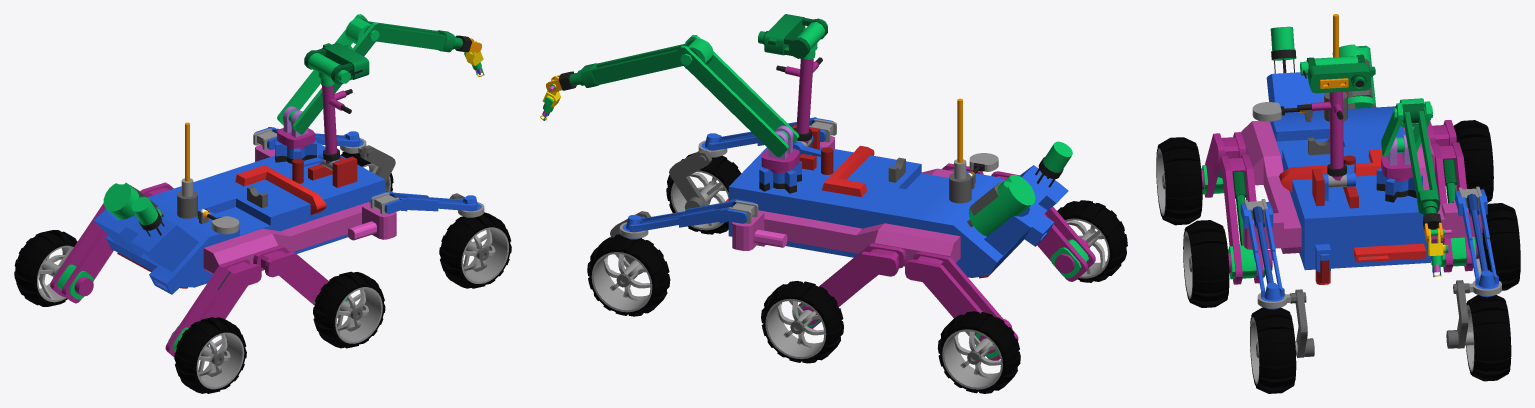
File: curiosity_jaeha.glb
The picture shows the model from 3 angles, left to right: view 1: azimuth 30°, elevation 25°; view 2: azimuth 150°, elevation 25°; view 3: azimuth 270°, elevation 25°; orthographic projection. The views are drawn at different scales.
Parts seen in each view (by area): view 1: boxbasearm, supportplattaformfromArm, LeftMechanicalArmFrontWell.004, LeftMechanicalArmFrontWell.003, RightMechanicalArmFrontWell, LeftMechanicalArmFrontWell.002, RightControlArmBack, LeftControlArmBack, Arm, RightControlArmCenter, abz, RightMechanicalArmFrontArm (+11 smaller); view 2: boxbasearm, supportplattaformfromArm, LeftMechanicalArmFrontWell.002, LeftMechanicalArmFrontWell.001, LeftMechanicalArmFrontWell, Arm, LeftControlArmBack, LeftMechanicalArmFrontWell.004, LeftControlArmCenter, abz, boxbasearm.002, RightControlArmBack (+12 smaller); view 3: boxbasearm, supportplattaformfromArm, RightMechanicalArmFrontWell, LeftMechanicalArmFrontWell, LeftMechanicalArmFrontWell.004, LeftMechanicalArmFrontWell.003, RightControlArmCenter, LeftControlArmCenter, LeftMechanicalArmFrontWell.001, LeftMechanicalArmFrontWell.002, RightMechanicalArmFrontArm, abz (+17 smaller).
Boxes of the visible parts, box(x1,y1,x2,y2) form: boxbasearm: box(94, 142, 385, 294); supportplattaformfromArm: box(203, 144, 396, 274); LeftMechanicalArmFrontWell.004: box(174, 317, 246, 393); LeftMechanicalArmFrontWell.003: box(313, 271, 385, 348); RightMechanicalArmFrontWell: box(439, 212, 511, 288); LeftMechanicalArmFrontWell.002: box(14, 230, 77, 306); RightControlArmBack: box(165, 257, 261, 356); LeftControlArmBack: box(50, 203, 113, 303); Arm: box(277, 14, 383, 134); RightControlArmCenter: box(253, 245, 348, 318); abz: box(361, 18, 462, 52); RightMechanicalArmFrontArm: box(372, 191, 481, 217); boxbasearm: box(725, 124, 1068, 278); supportplattaformfromArm: box(732, 136, 1004, 266); LeftMechanicalArmFrontWell.002: box(937, 311, 1020, 393); LeftMechanicalArmFrontWell.001: box(761, 281, 843, 363); LeftMechanicalArmFrontWell: box(587, 234, 670, 316); Arm: box(675, 35, 799, 157); LeftControlArmBack: box(905, 251, 1018, 360); LeftMechanicalArmFrontWell.004: box(1057, 200, 1127, 282); LeftControlArmCenter: box(798, 243, 906, 328); abz: box(569, 39, 697, 87); boxbasearm.002: box(967, 174, 1035, 236); RightControlArmBack: box(991, 171, 1095, 281); boxbasearm: box(1266, 72, 1430, 284); supportplattaformfromArm: box(1241, 120, 1482, 253); RightMechanicalArmFrontWell: box(1250, 307, 1314, 393); LeftMechanicalArmFrontWell: box(1446, 295, 1511, 381); LeftMechanicalArmFrontWell.004: box(1156, 137, 1202, 225); LeftMechanicalArmFrontWell.003: box(1183, 220, 1229, 307); RightControlArmCenter: box(1220, 154, 1272, 284); LeftControlArmCenter: box(1431, 142, 1478, 272); LeftMechanicalArmFrontWell.001: box(1474, 203, 1520, 290); LeftMechanicalArmFrontWell.002: box(1453, 120, 1493, 202); RightMechanicalArmFrontArm: box(1240, 201, 1284, 309); abz: box(1402, 103, 1439, 214).
Size of the model in its own units: 16.66 by 8.31 by 10.32.
